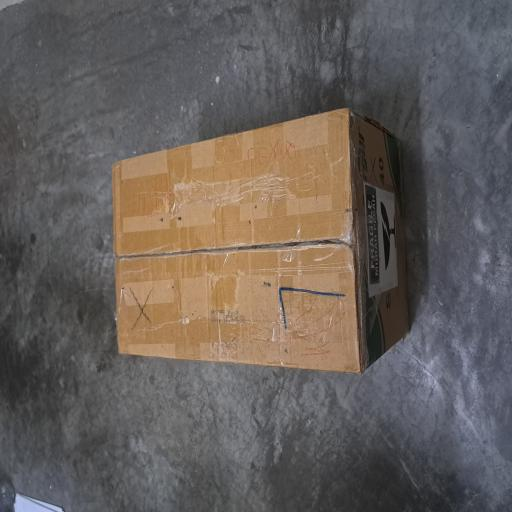cardboard: (104, 146, 304, 512)
